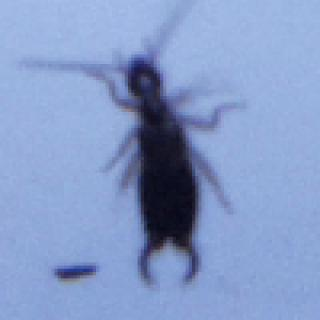earwig: (17, 1, 248, 297)
